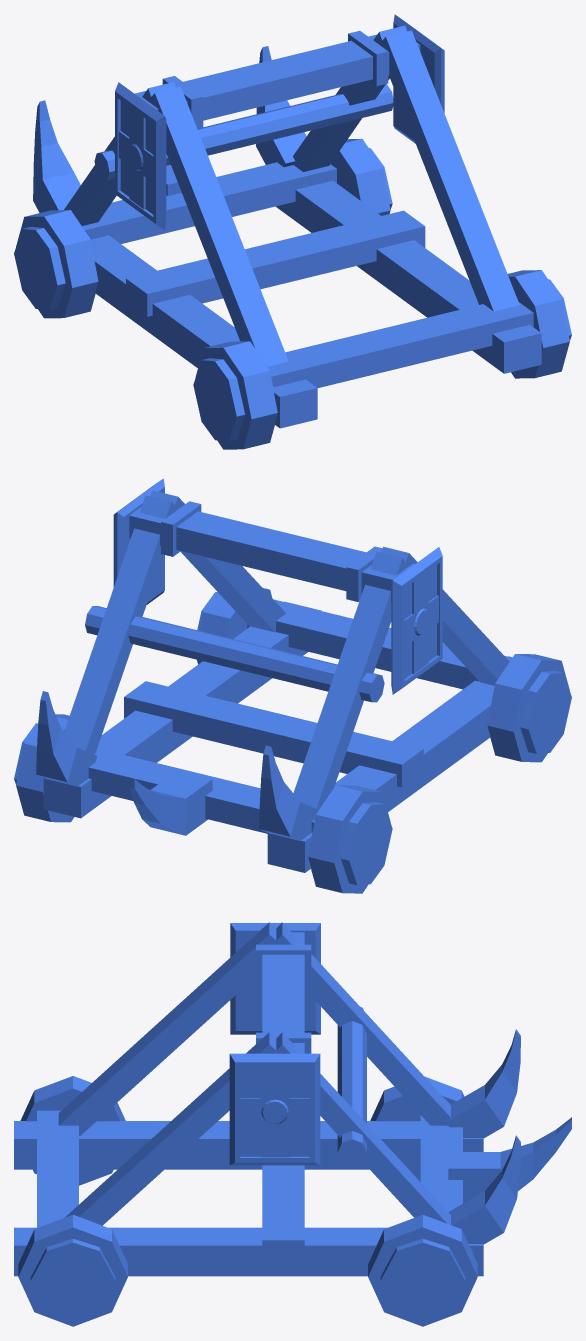
File: Catapoult_Variant1.fbx
The picture shows the model from 3 angles, top to bottom: view 1: azimuth 30°, elevation 25°; view 2: azimuth 150°, elevation 25°; view 3: azimuth 270°, elevation 25°; orthographic projection. The views are drawn at different scales.
Visible parts, largest first — view 1: Catapoult_Variant1; view 2: Catapoult_Variant1; view 3: Catapoult_Variant1.
Boxes of the visible parts, x1=… form: Catapoult_Variant1: x1=14, y1=14, x2=571, y2=449; Catapoult_Variant1: x1=14, y1=478, x2=571, y2=893; Catapoult_Variant1: x1=14, y1=922, x2=571, y2=1326.
Size of the model in its own units: 170 by 134 by 252.
